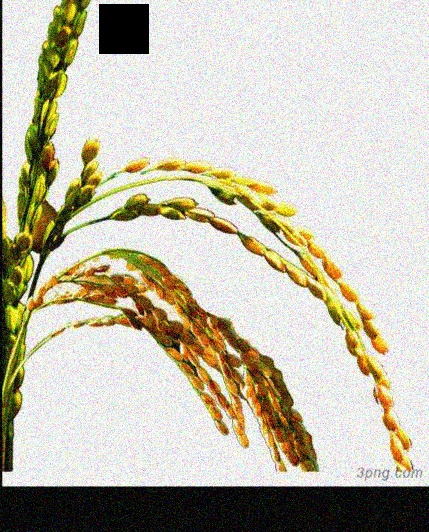rice: (67, 135, 414, 464), (38, 247, 317, 473)
